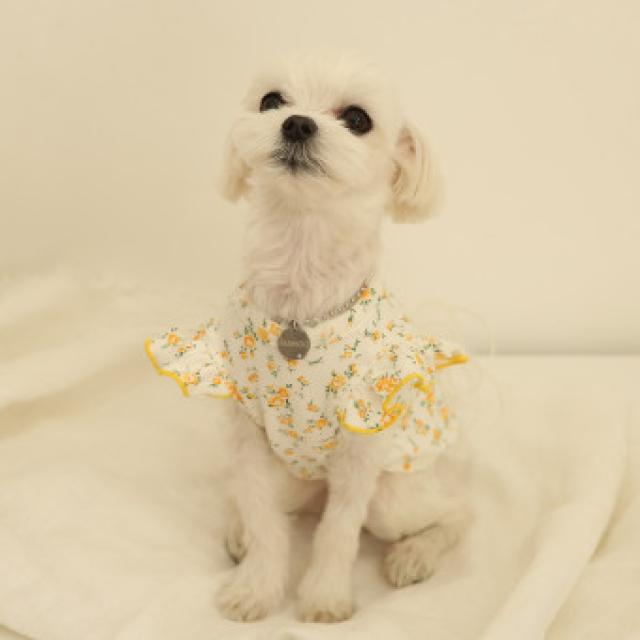cloth: (146, 285, 466, 480)
